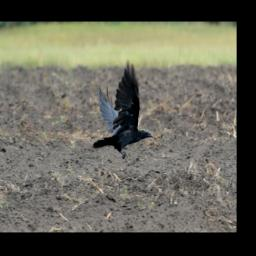Crow: (91, 58, 155, 161)
